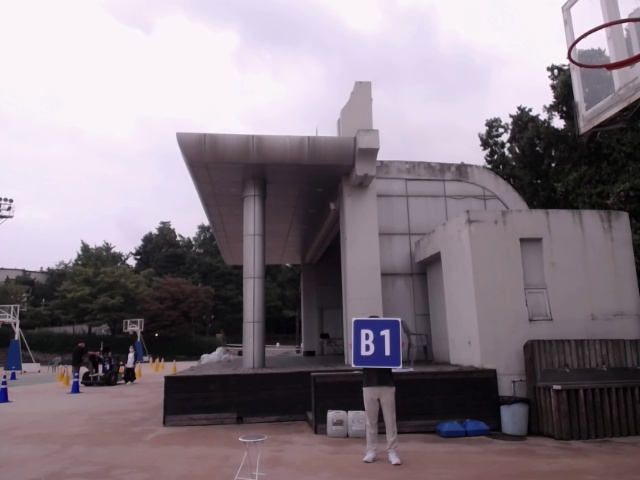delivery_b1: (352, 318, 402, 368)
